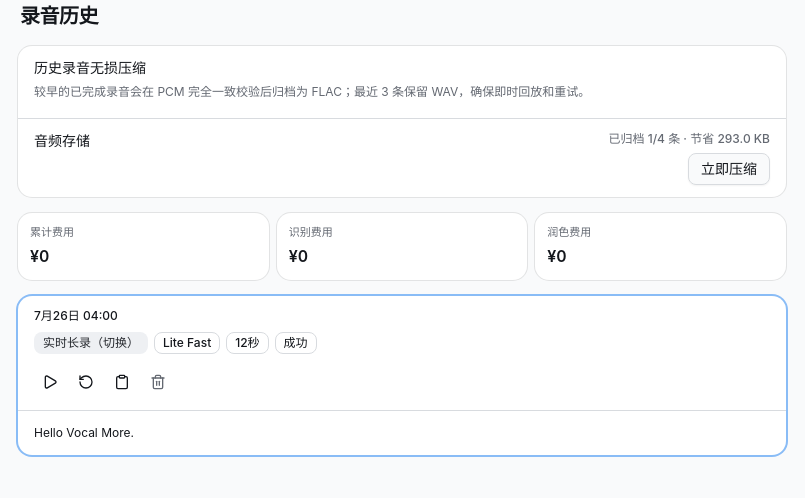
Test: history settings copy feedback › does not show the copied state when both clipboard paths fail
Click the button named "复制 Hello Vocal More.".
click(122, 382)  # box [106, 366, 138, 398]
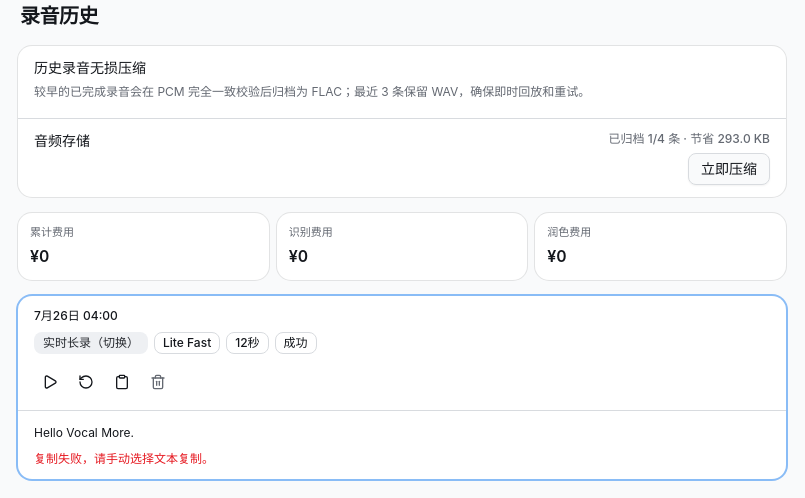
Expected: the message reads "复制失败，请手动选择文本复制。", [34, 451, 214, 466]
